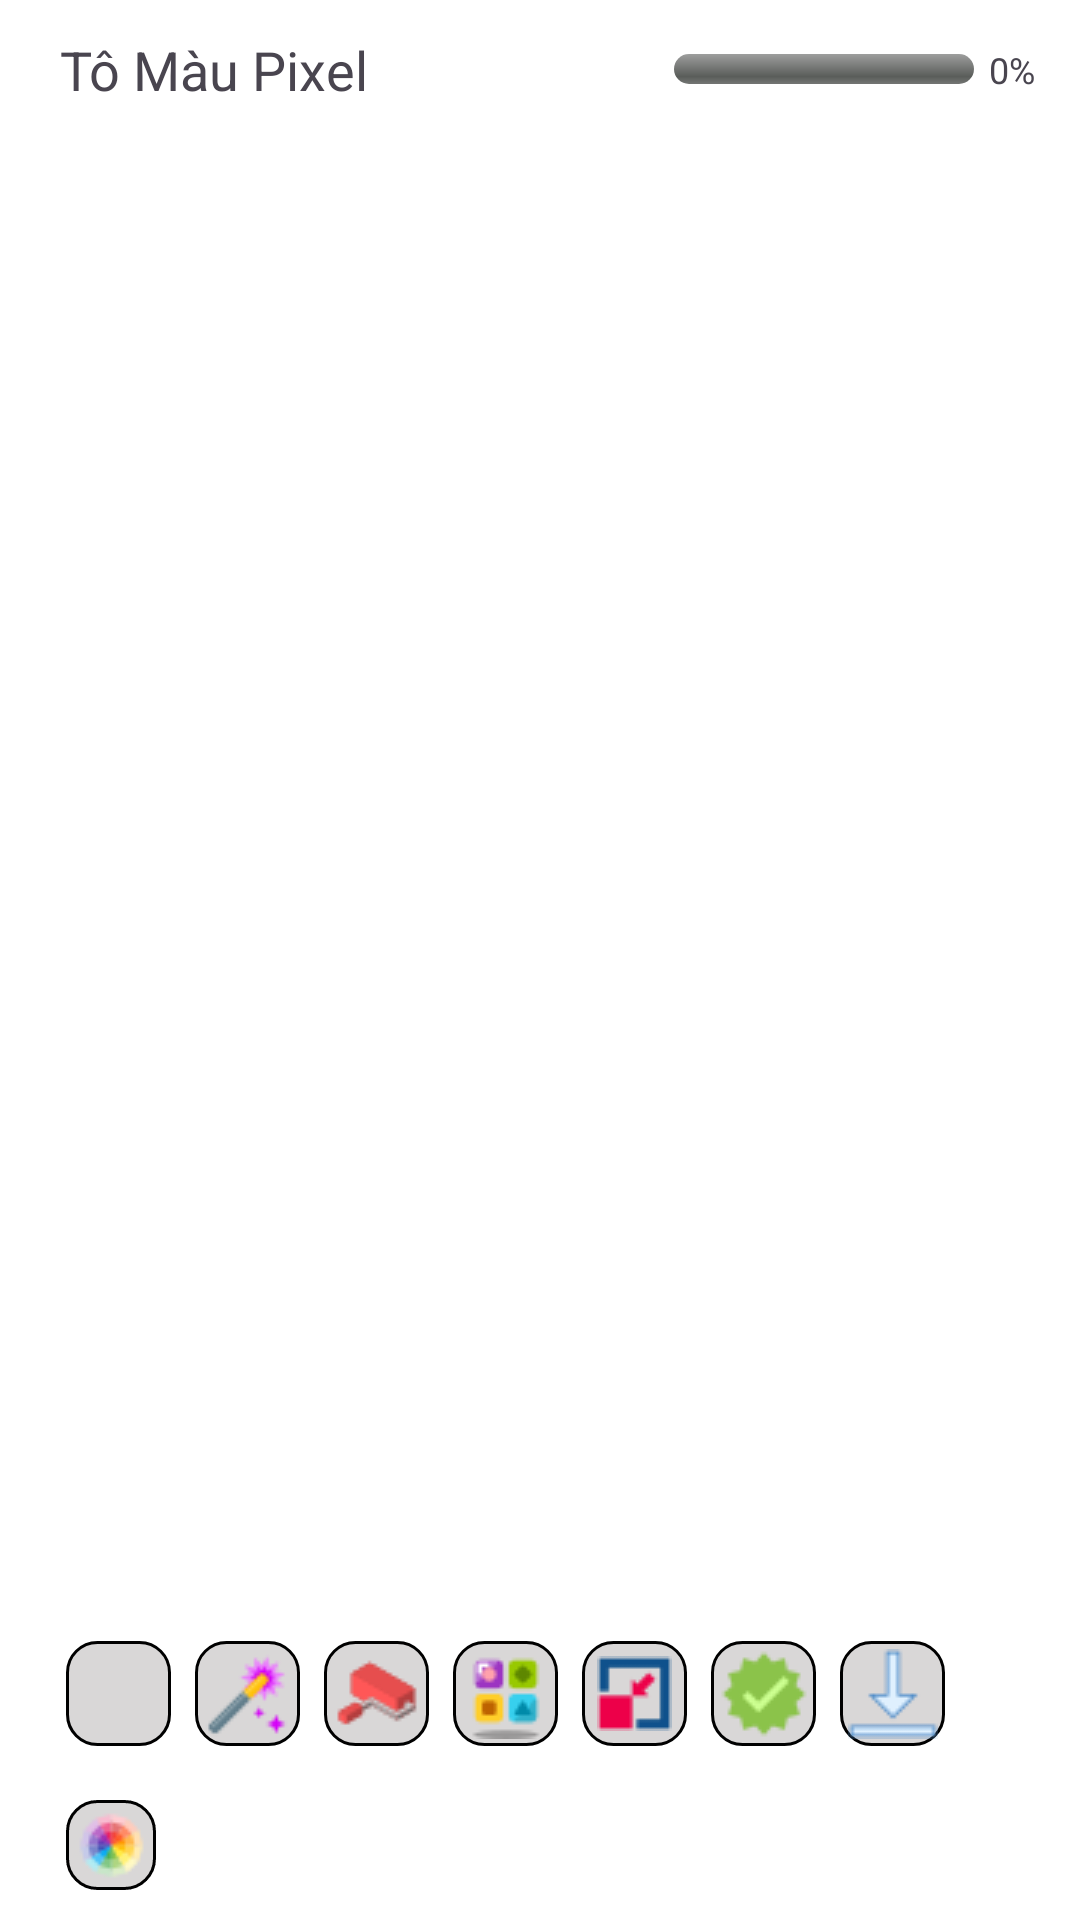

Icon bounding boxes for this 1080×1920 phone screenshot, format (x1=x1, y1=y1, x2=x2, y2=y2):
check: (x1=711, y1=1641, x2=816, y2=1746)
customcolor: (x1=66, y1=1800, x2=156, y2=1890)
dowwnload: (x1=840, y1=1641, x2=945, y2=1746)
drawing roler: (x1=324, y1=1641, x2=429, y2=1746)
magicbt: (x1=195, y1=1641, x2=300, y2=1746)
reset shrink: (x1=582, y1=1641, x2=687, y2=1746)
